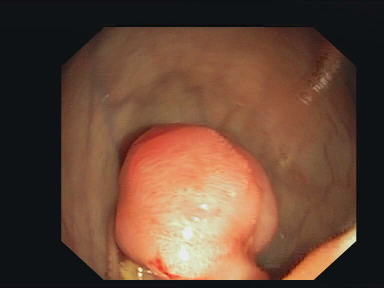polyp: (110, 107, 301, 255)
